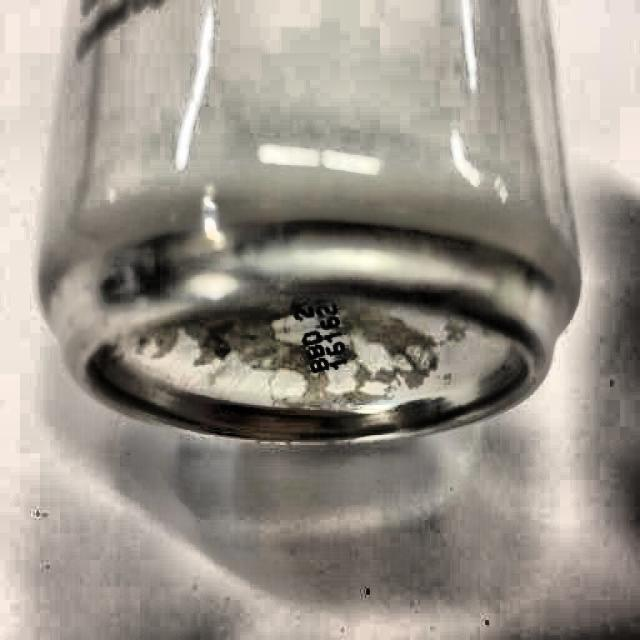metal: (37, 10, 586, 449)
